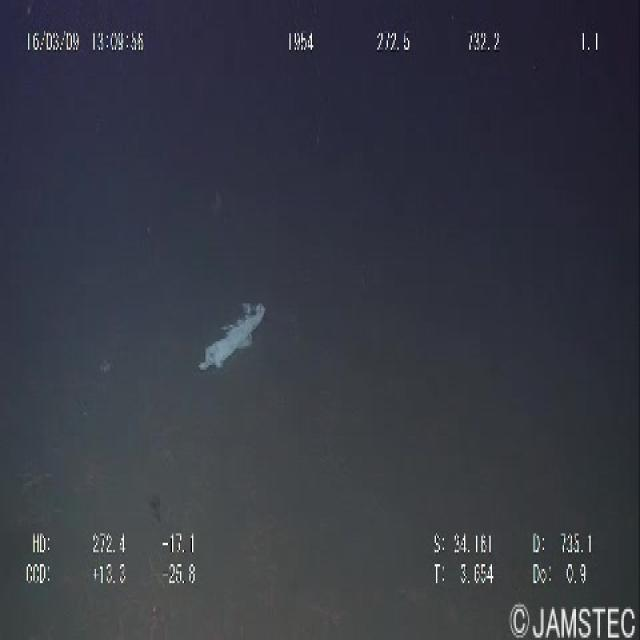plastic: (192, 289, 271, 386)
